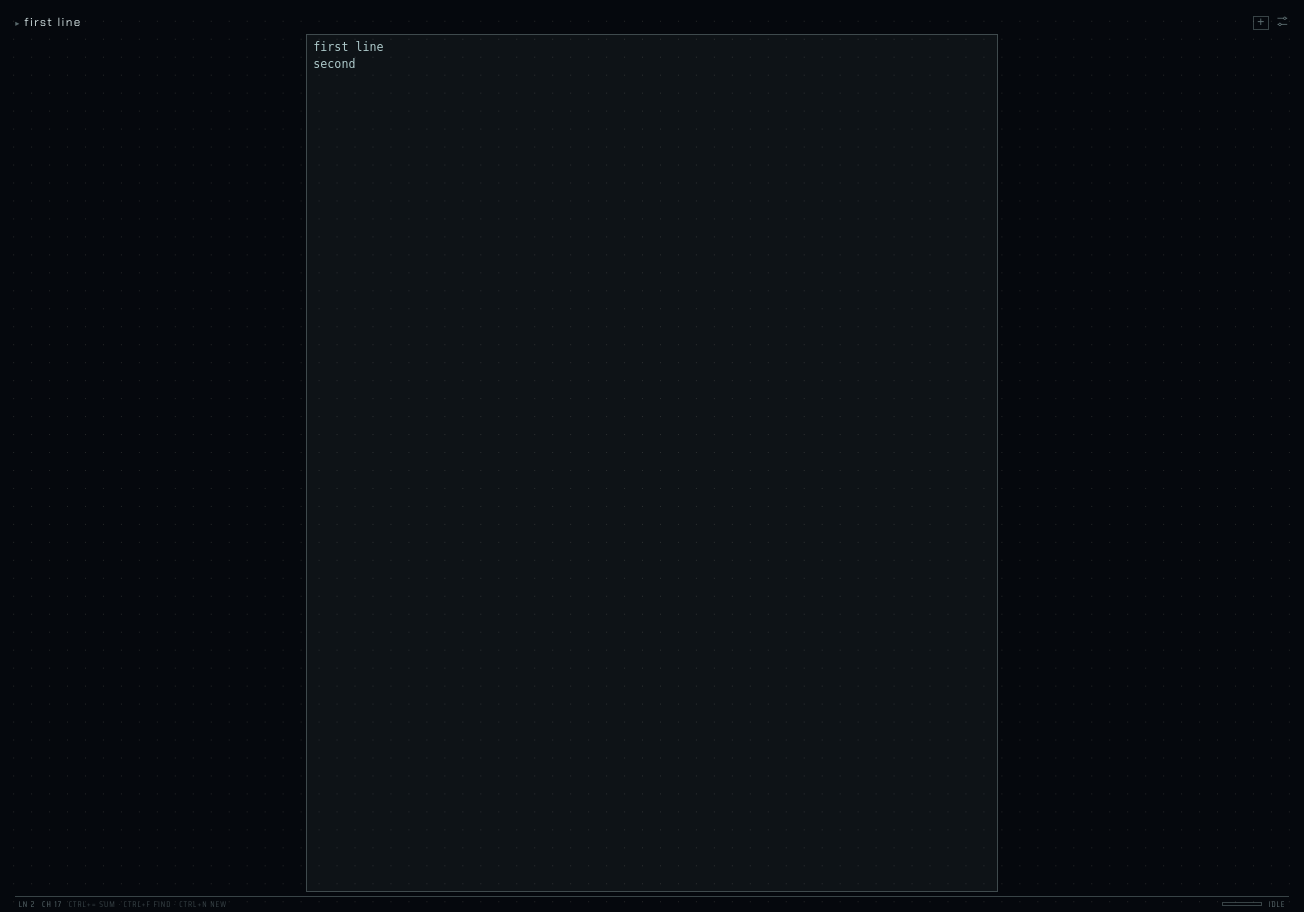
Test: NotesWidget › says so rather than overwriting what is half typed here
Replace the text in the text box with test id "notes-body" with "mine" at (652, 463), box left=306, top=34, right=998, bottom=892
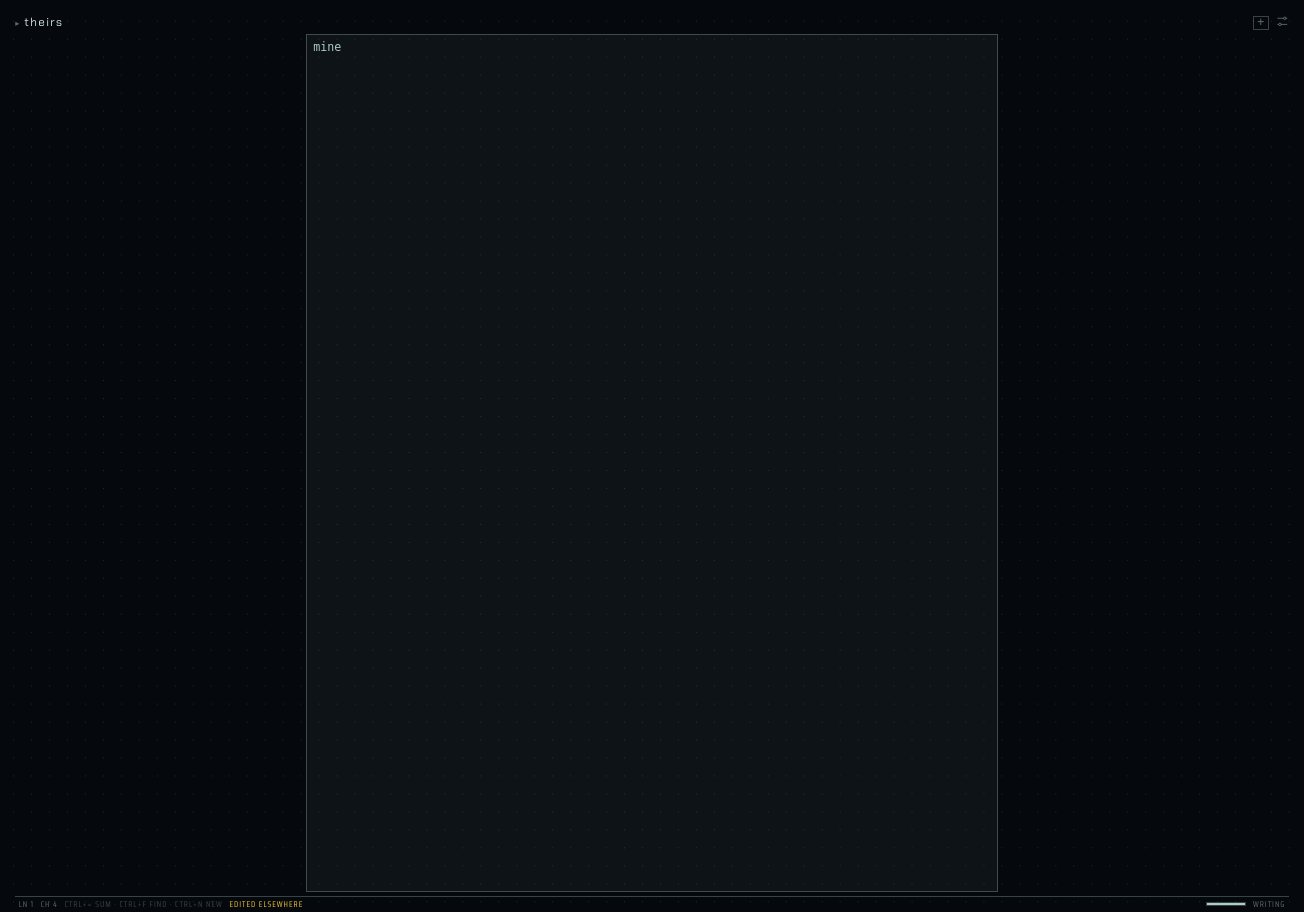
Check: the text "edited elsewhere" is shown, box left=230, top=899, right=303, bottom=910
